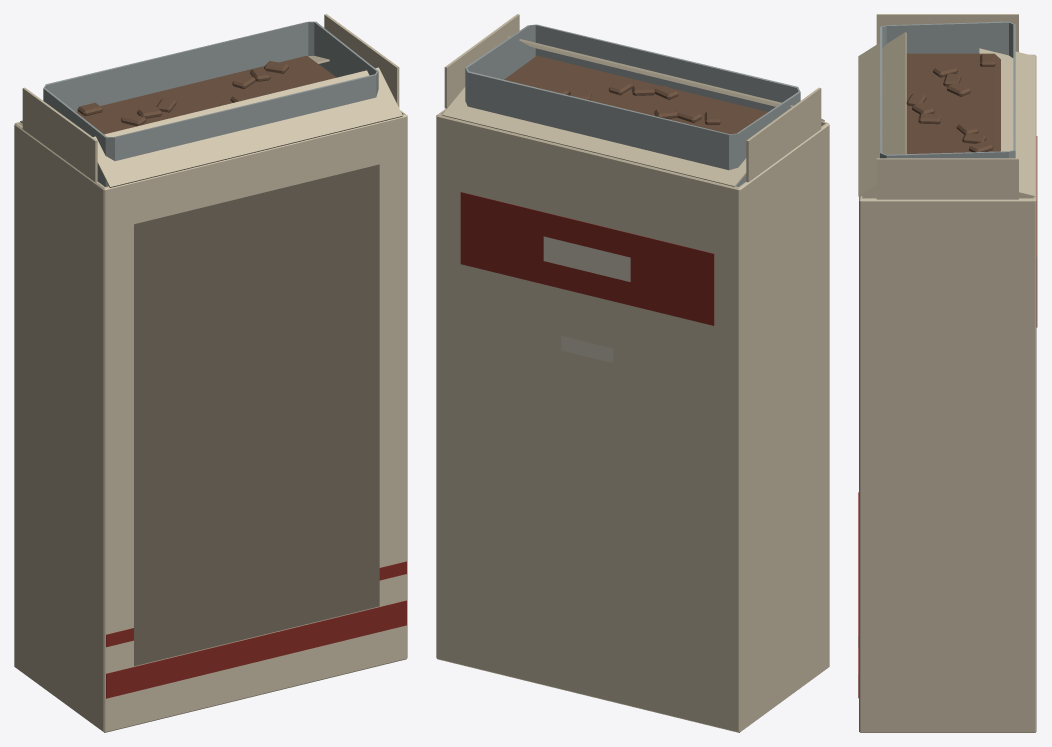
The model's file is cereal-box-2988727bb807.glb.
3 renders of one model, left to right at view 1: azimuth 30°, elevation 25°; view 2: azimuth 150°, elevation 25°; view 3: azimuth 270°, elevation 25°, orthographic. The views are drawn at different scales.
Parts seen in each view (by area): view 1: paper, cover-print, glass-clear, enamel-red, wood; view 2: paper, glass-clear, enamel-red, wood, decal-ink; view 3: paper, wood, glass-clear, enamel-red.
Part boxes in pixels (x1,y1,x2,y2): paper: (14, 14, 407, 732); cover-print: (134, 164, 379, 666); glass-clear: (43, 21, 378, 186); enamel-red: (106, 561, 406, 698); wood: (76, 55, 336, 134); paper: (436, 14, 829, 732); glass-clear: (465, 24, 800, 186); enamel-red: (460, 192, 714, 325); wood: (504, 55, 767, 134); decal-ink: (543, 236, 630, 362); paper: (858, 14, 1036, 732); wood: (906, 53, 1000, 153); glass-clear: (880, 21, 1015, 158); enamel-red: (858, 136, 1037, 698).
Bounding box in the file's own units: 0.155 × 0.285 × 0.0808.
